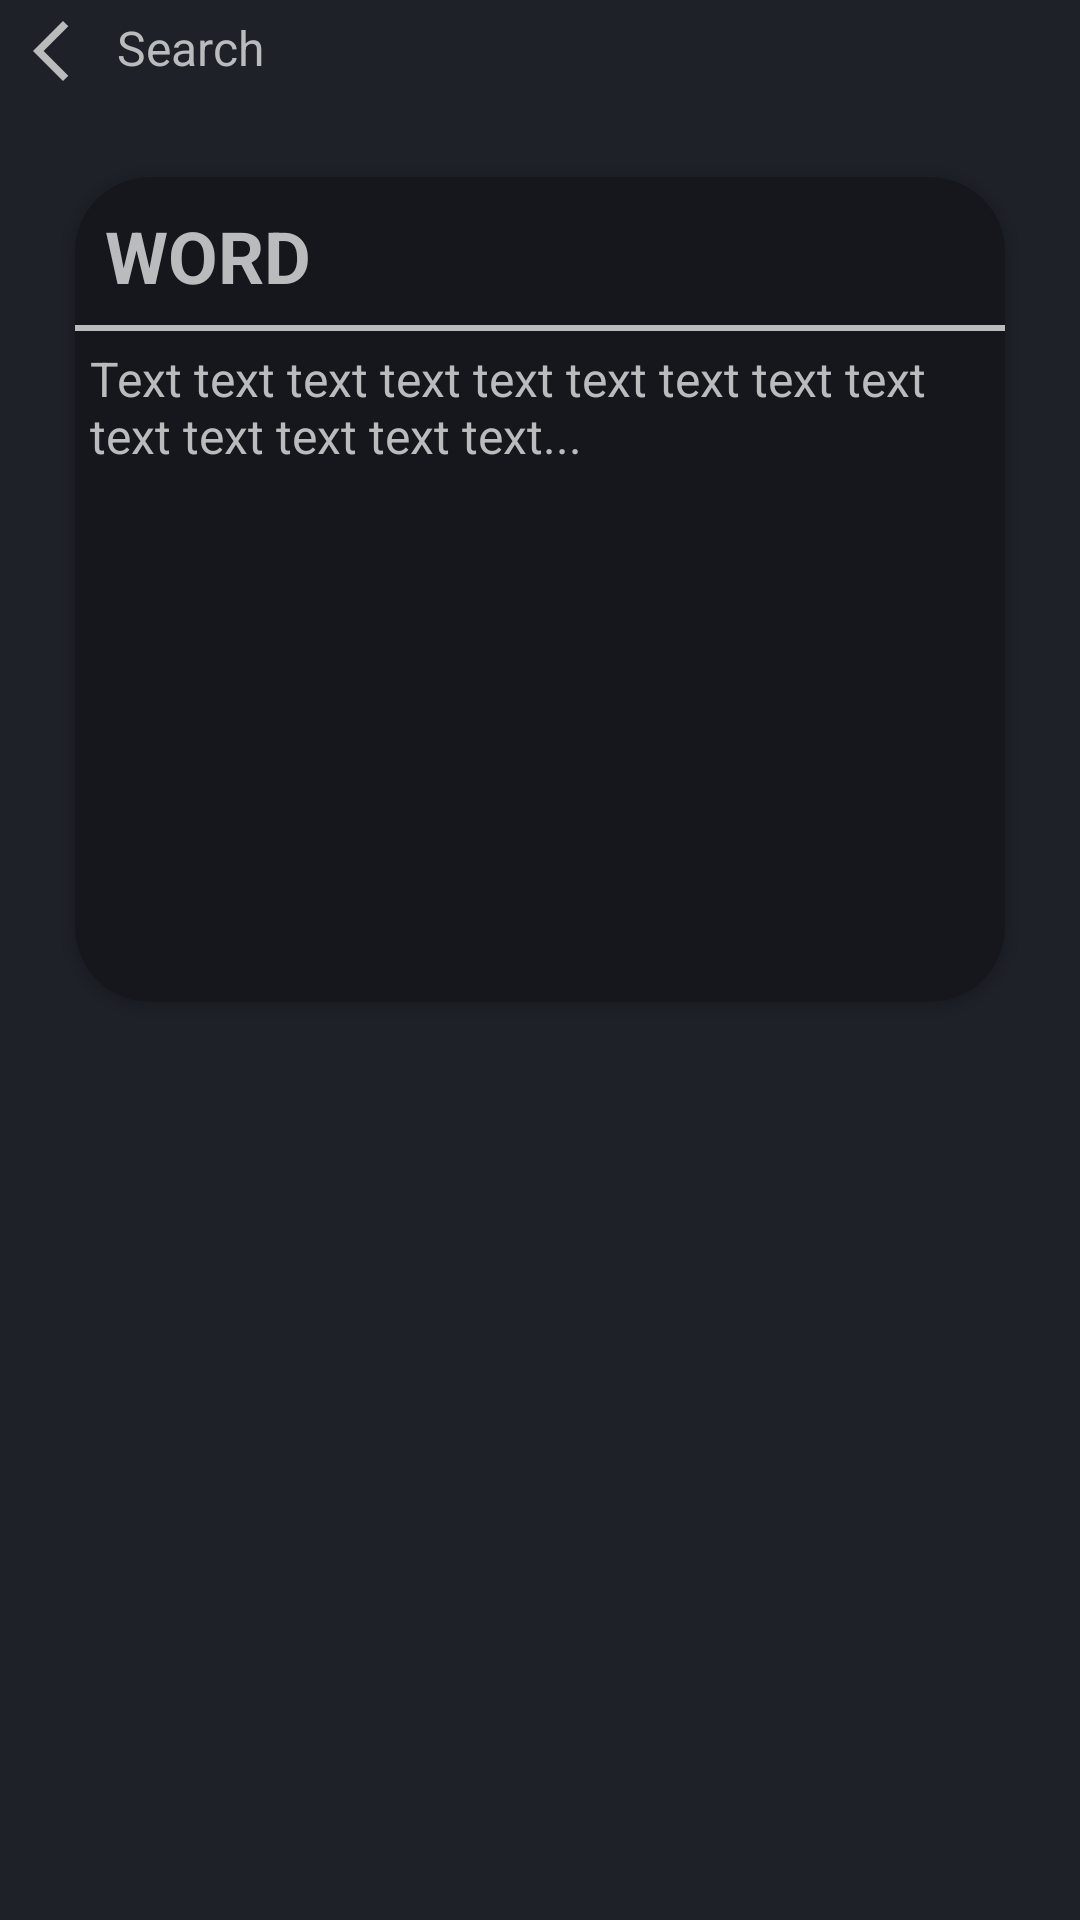

Icon bounding boxes for this 1080px x 1920px phone screenshot, format [x1=x1, y1=y1, x2=x2, y2=y2]:
back: [x1=33, y1=21, x2=68, y2=81]
